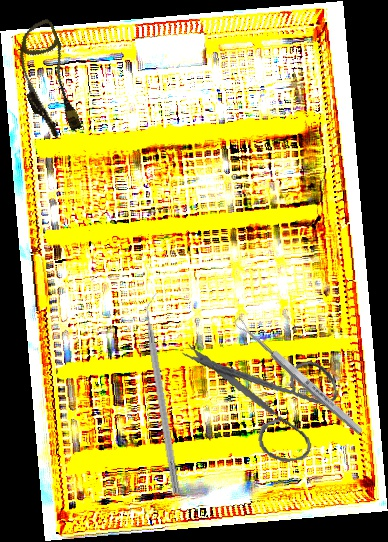Cannula: (1, 17, 95, 143)
Chopper: (140, 292, 191, 494)
Iris Scissors: (179, 322, 347, 476)
Surgical Spoon: (232, 315, 365, 437)
